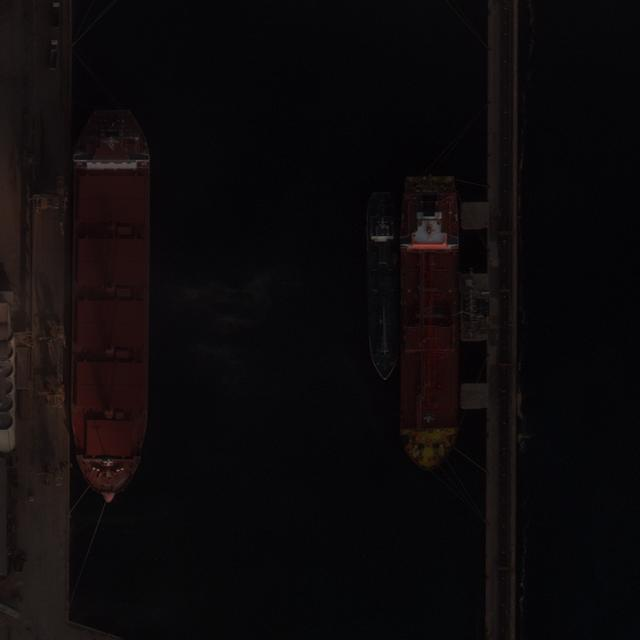Cargo: (71, 108, 153, 506)
Oil Tanker: (401, 176, 462, 471), (368, 193, 400, 382)
